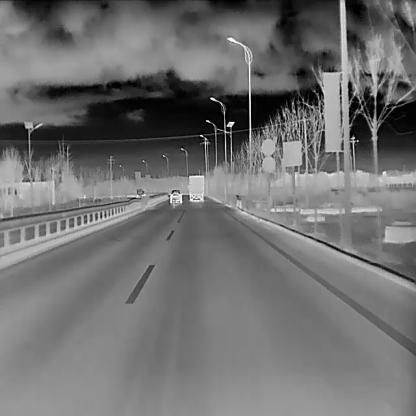car: (169, 189, 182, 203)
truck: (188, 174, 205, 201), (136, 188, 143, 198)
